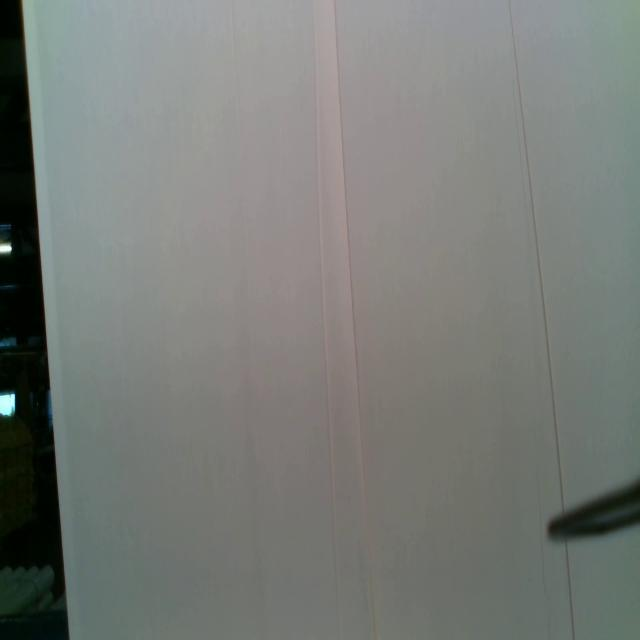crease: (507, 0, 565, 508), (334, 1, 377, 638), (310, 0, 343, 640), (230, 0, 252, 240), (564, 540, 576, 638)
